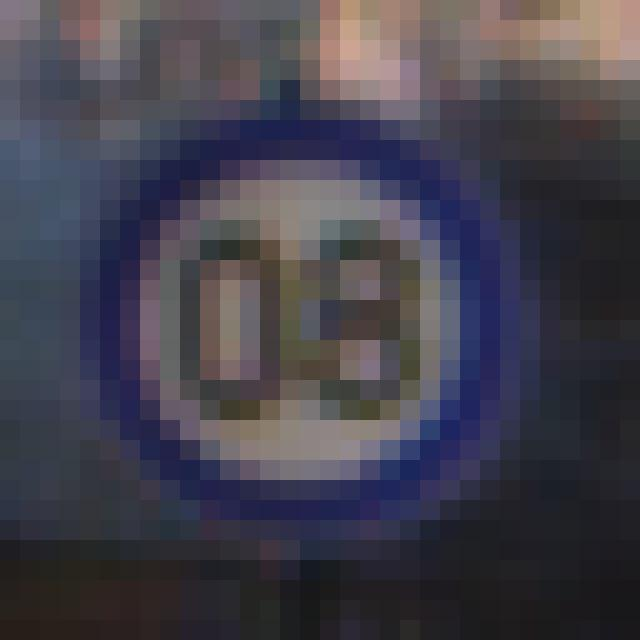SPEED-LIMIT-80: (98, 127, 524, 510)
